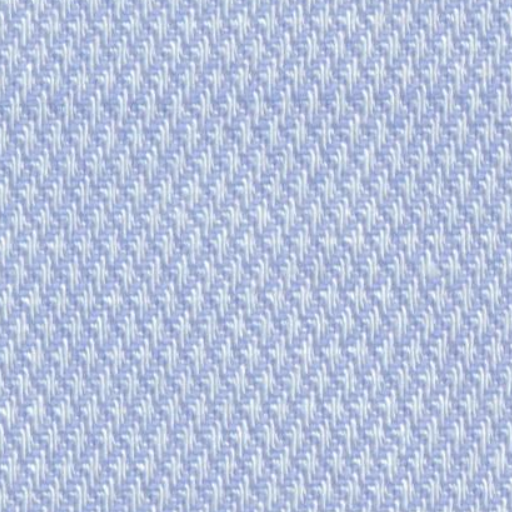TuoSha: (12, 65, 496, 159)
